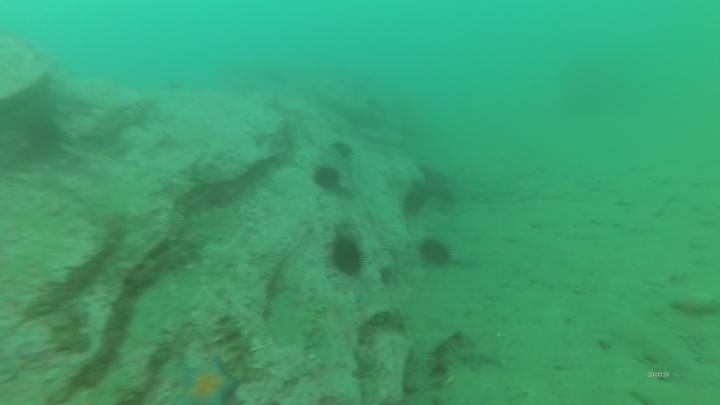echinus: (20, 114, 66, 160), (327, 232, 367, 279), (416, 235, 455, 270), (398, 180, 433, 219), (310, 162, 344, 193), (328, 138, 356, 161)
holothurian: (209, 312, 262, 385), (295, 293, 330, 349)
starfish: (175, 357, 239, 405), (449, 341, 508, 373)
